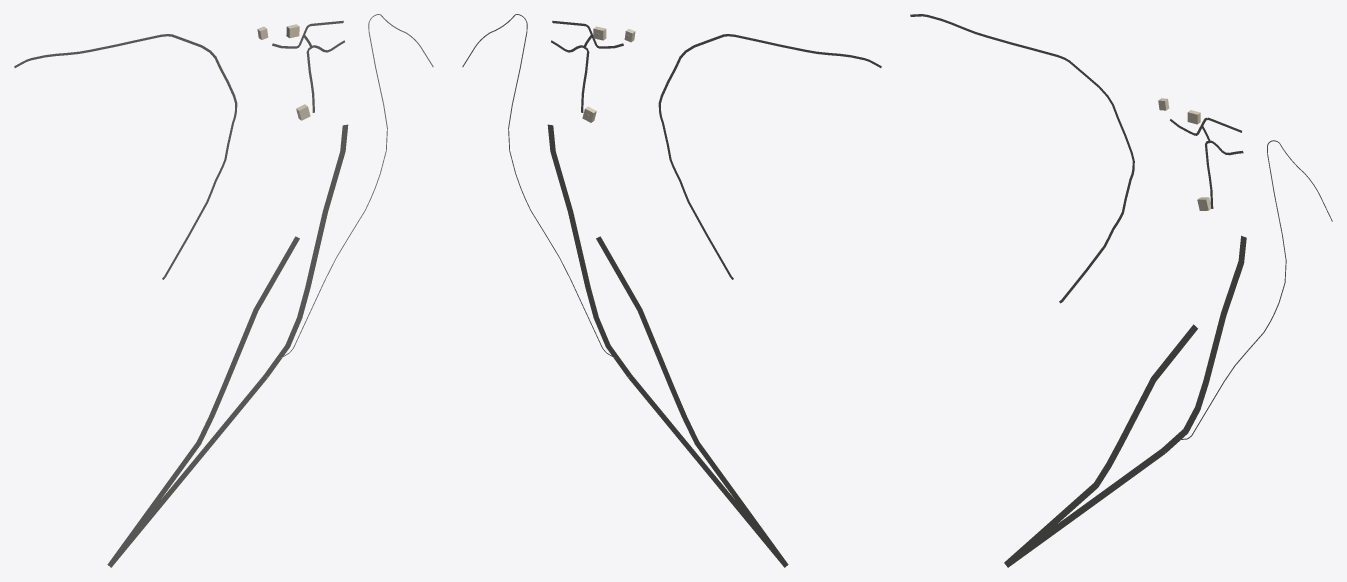
File: jerash_3591_3234.glb
3 views of the same model, side by side, from view 1: azimuth 30°, elevation 25°; view 2: azimuth 150°, elevation 25°; view 3: azimuth 330°, elevation 25° (orthographic).
Parts seen in each view (by area): view 1: Road, Road .003, Road .004, Road .001, Road .010; view 2: Road, Road .003, Road .004, Road .001, Road .010; view 3: Road, Road .003, Road .004, Road .001, Road .010.
Boxes of the visible parts, bbox=[...] form: Road: bbox=[107, 236, 299, 567]; Road .003: bbox=[264, 124, 348, 377]; Road .004: bbox=[14, 34, 237, 279]; Road .001: bbox=[107, 438, 215, 567]; Road .010: bbox=[279, 14, 433, 358]; Road: bbox=[596, 236, 788, 567]; Road .003: bbox=[547, 124, 631, 377]; Road .004: bbox=[658, 34, 881, 279]; Road .001: bbox=[680, 438, 785, 567]; Road .010: bbox=[462, 14, 617, 358]; Road: bbox=[1004, 324, 1197, 567]; Road .003: bbox=[1162, 235, 1246, 452]; Road .004: bbox=[910, 14, 1134, 303]; Road .001: bbox=[1005, 486, 1112, 567]; Road .010: bbox=[1178, 140, 1332, 439].
Bounding box in the file's own units: 594 × 716 × 8.7.
